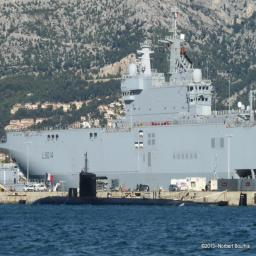submarine: (31, 171, 250, 206)
